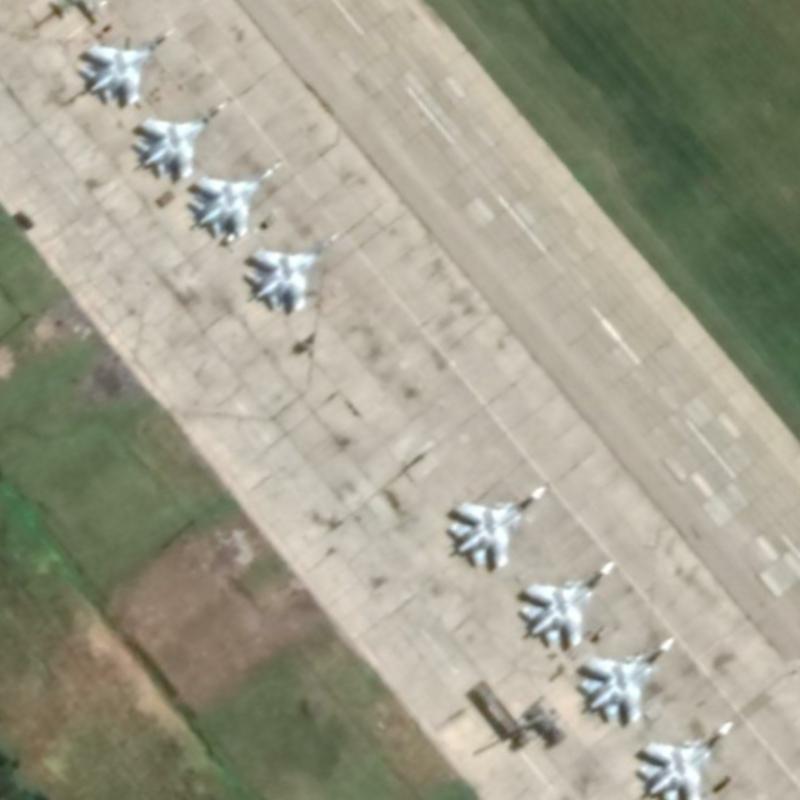A1: (186, 159, 283, 245), (242, 232, 340, 314), (77, 26, 176, 106), (132, 100, 228, 182)
A19: (577, 635, 677, 726), (519, 559, 616, 651), (446, 483, 548, 570), (637, 718, 736, 800)
